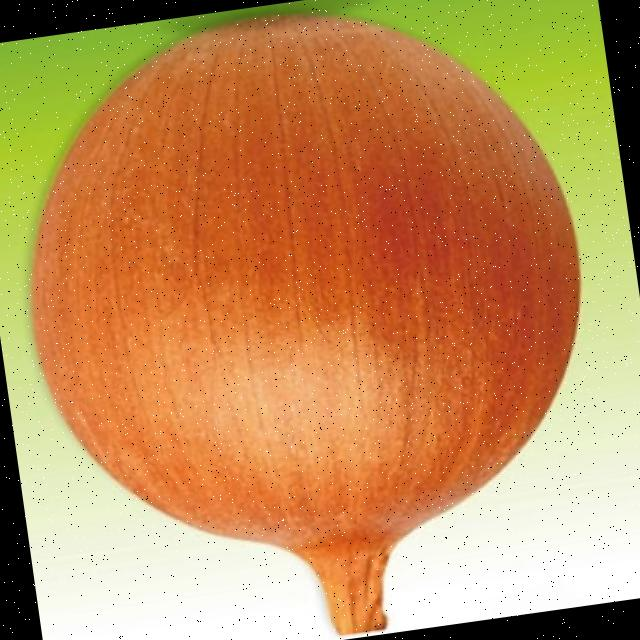Onion: (30, 14, 579, 634)
